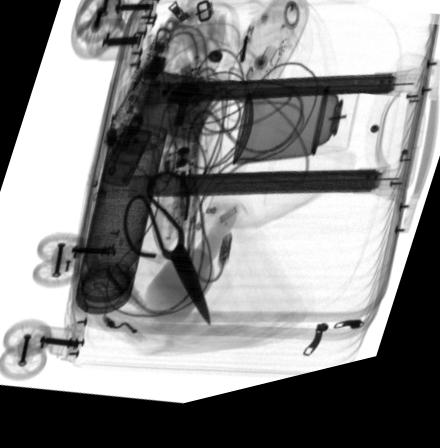Lighter: (100, 130, 151, 193)
Powerbank: (116, 72, 218, 150)
Scissors: (121, 178, 210, 337)
Sprayer: (231, 103, 359, 173)
